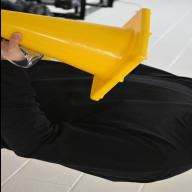cone: (0, 8, 151, 101)
